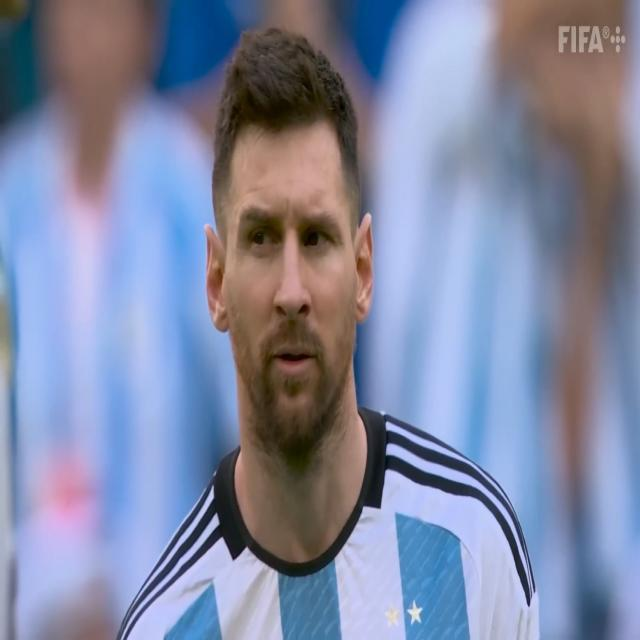player: (115, 25, 540, 640)
